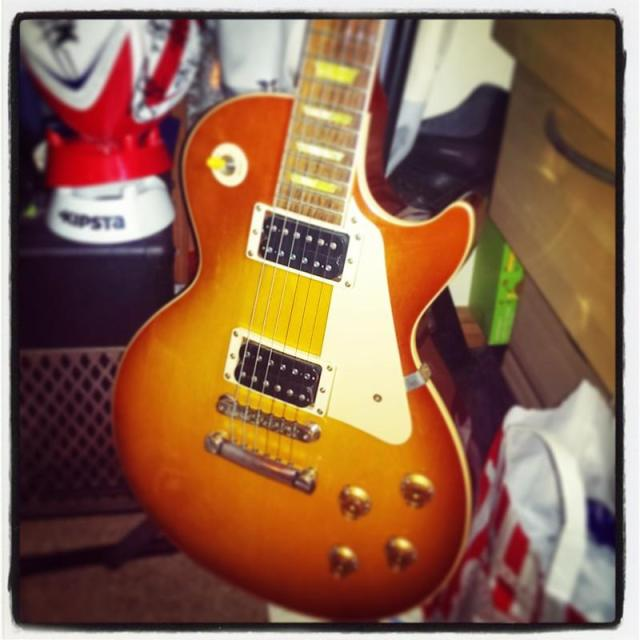guitar: (114, 20, 472, 619)
